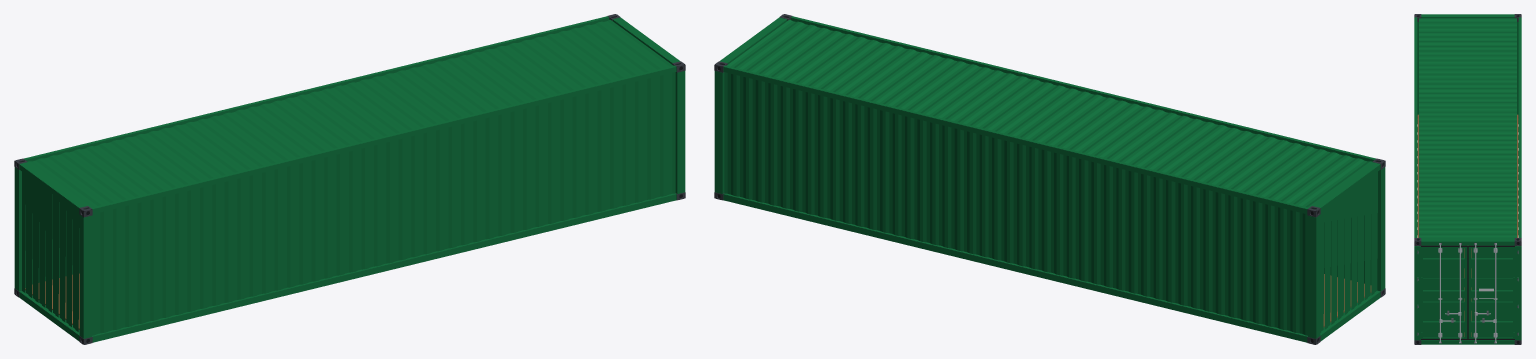
File: iso_40ft_dc_42g1.obj
3 renders of one model, left to right at view 1: azimuth 30°, elevation 25°; view 2: azimuth 150°, elevation 25°; view 3: azimuth 270°, elevation 25°, orthographic. The views are drawn at different scales.
Visible parts, largest first — view 1: 04_Corrugated_Corten_Panels, 02_Structural_Frame_Rails, 01_ISO_Corner_Castings_Hollow3D; view 2: 04_Corrugated_Corten_Panels, 02_Structural_Frame_Rails, 01_ISO_Corner_Castings_Hollow3D; view 3: 04_Corrugated_Corten_Panels, 06_Corrugated_Rear_Doors, 02_Structural_Frame_Rails, 07_Galvanized_Locking_Hardware, 03_Marine_Wood_Floor, 05_Door_Rubber_Gaskets_Beveled, 01_ISO_Corner_Castings_Hollow3D.
Part boxes in pixels (<box>): 04_Corrugated_Corten_Panels: <box>22,19,675,335</box>; 02_Structural_Frame_Rails: <box>14,16,685,342</box>; 01_ISO_Corner_Castings_Hollow3D: <box>14,14,685,344</box>; 04_Corrugated_Corten_Panels: <box>724,19,1377,335</box>; 02_Structural_Frame_Rails: <box>714,16,1385,342</box>; 01_ISO_Corner_Castings_Hollow3D: <box>714,14,1385,344</box>; 04_Corrugated_Corten_Panels: <box>1419,18,1516,238</box>; 06_Corrugated_Rear_Doors: <box>1417,247,1518,338</box>; 02_Structural_Frame_Rails: <box>1414,14,1521,344</box>; 07_Galvanized_Locking_Hardware: <box>1417,243,1518,343</box>; 03_Marine_Wood_Floor: <box>1417,114,1518,336</box>; 05_Door_Rubber_Gaskets_Beveled: <box>1421,245,1514,339</box>; 01_ISO_Corner_Castings_Hollow3D: <box>1414,14,1521,344</box>.
Bounding box in the file's own units: 12.22 × 2.59 × 2.44.
